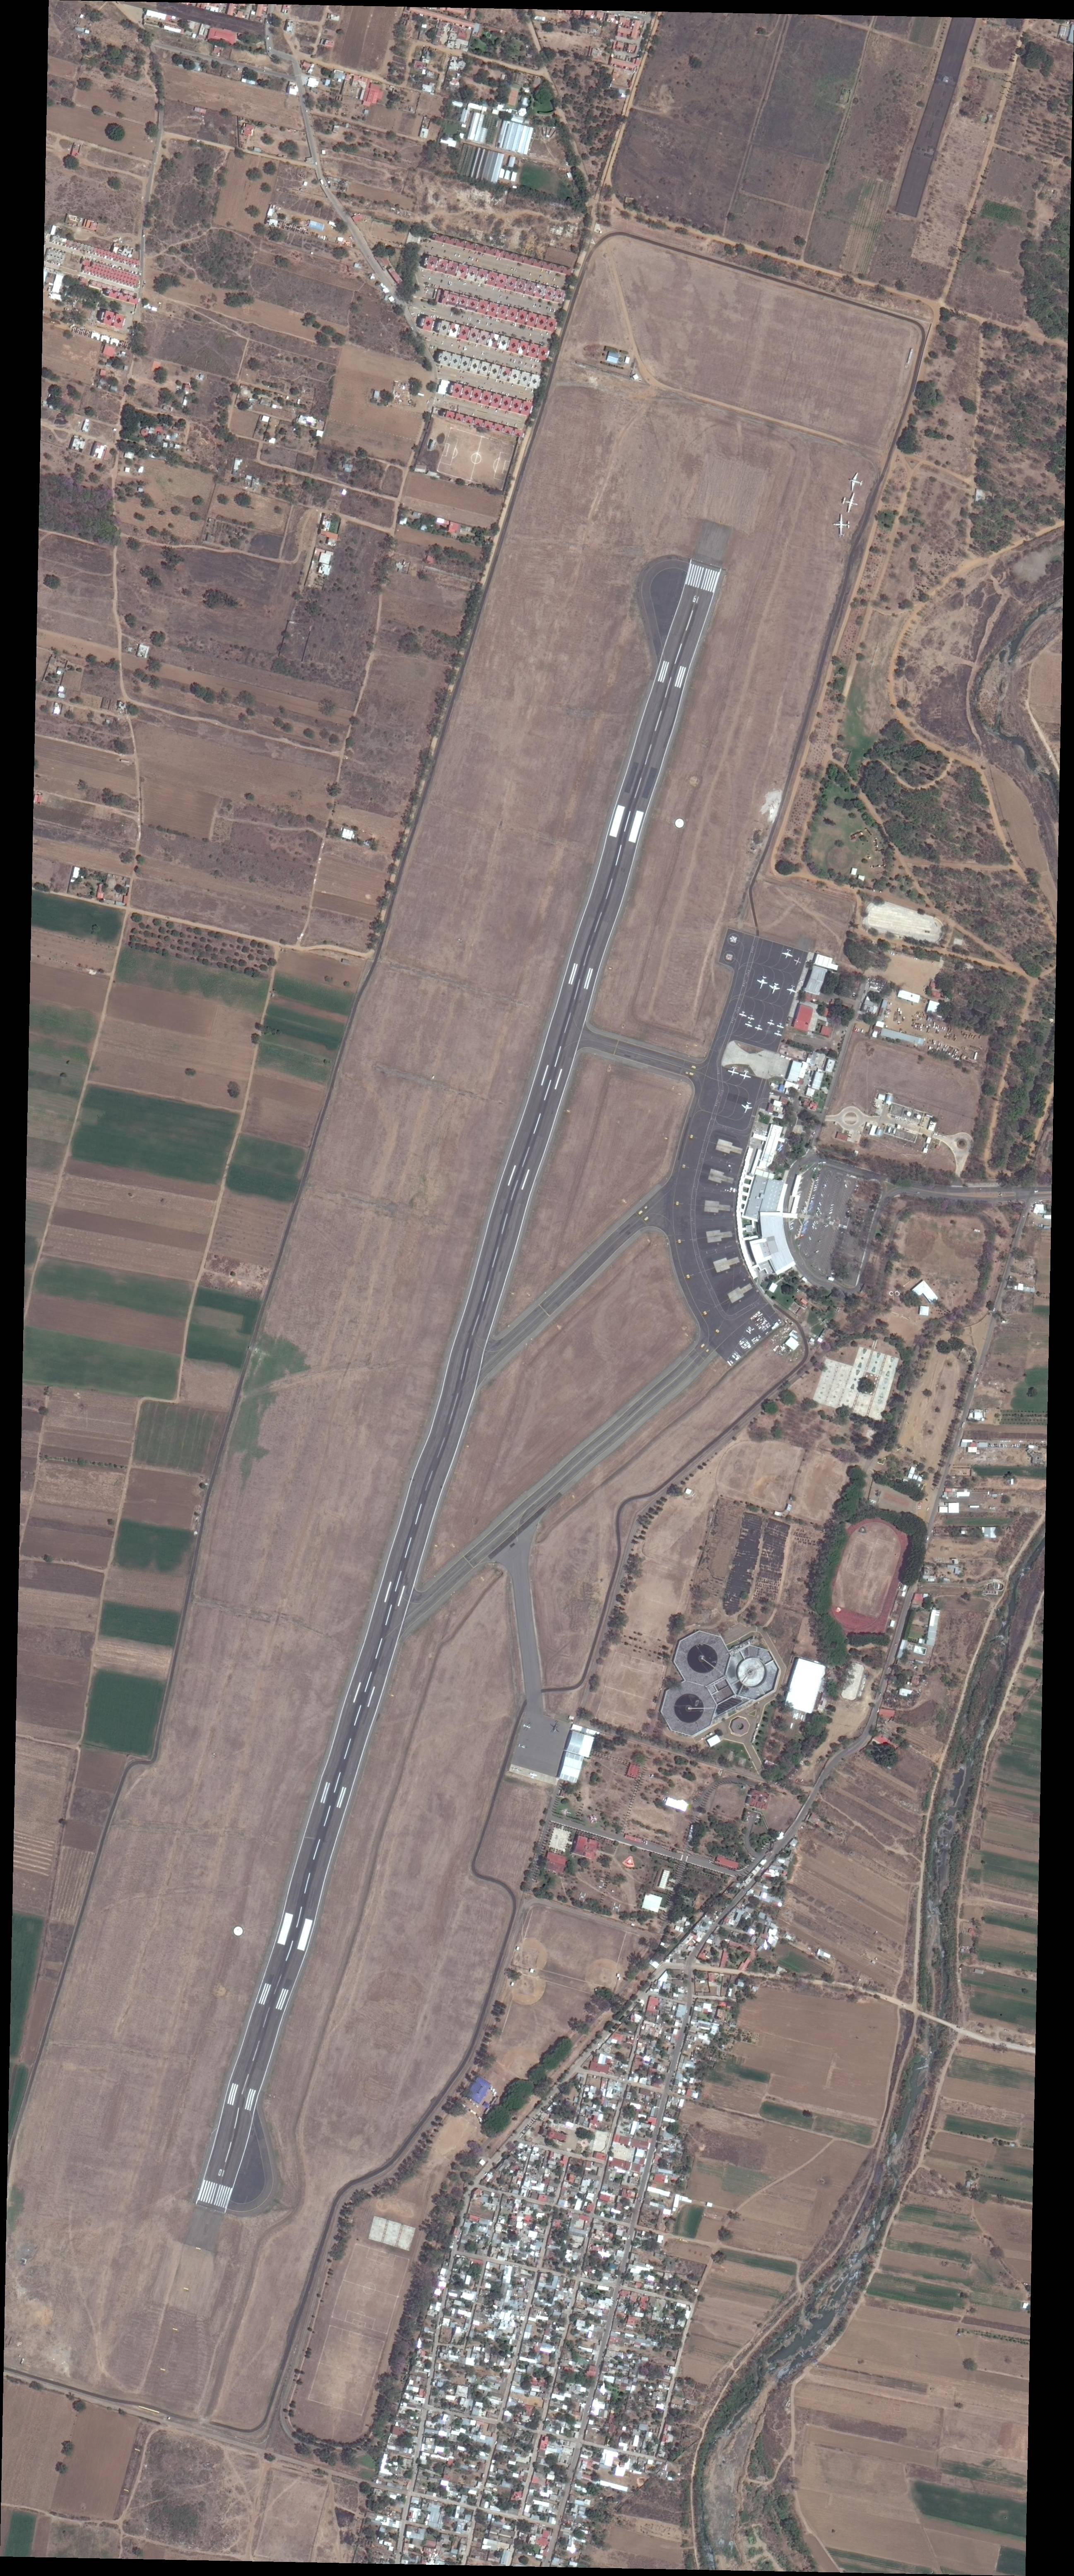ground track field: (819, 1511, 920, 1643)
helicopter: (550, 1720, 562, 1735), (522, 1722, 532, 1732)
plane: (841, 491, 861, 516), (833, 513, 851, 536), (847, 471, 865, 493), (754, 974, 770, 991), (767, 981, 782, 996), (739, 1099, 754, 1114), (780, 948, 795, 961), (726, 1065, 741, 1078), (787, 984, 798, 997), (739, 1069, 752, 1081), (793, 956, 803, 966), (744, 1020, 754, 1030), (773, 1030, 783, 1038), (775, 1022, 785, 1030), (765, 1019, 775, 1027), (739, 1010, 747, 1019), (747, 1014, 755, 1022), (754, 1025, 764, 1032), (529, 1773, 539, 1779), (517, 1743, 527, 1750), (511, 1766, 521, 1773)
soccer ball field: (332, 2244, 409, 2333), (309, 2326, 384, 2415), (437, 427, 514, 491)
